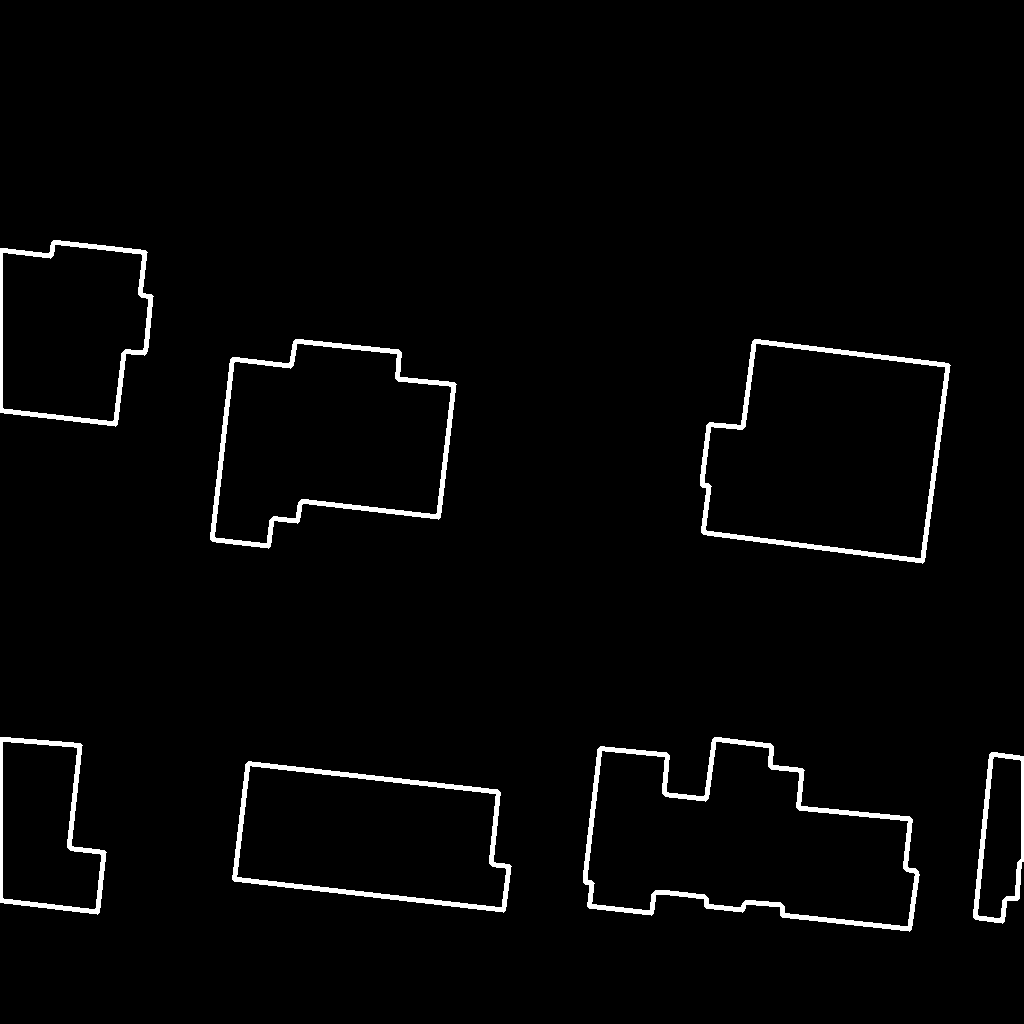building: (585, 739, 918, 930), (702, 341, 949, 562), (212, 341, 455, 547), (234, 763, 510, 911), (0, 242, 152, 425), (0, 739, 105, 913), (975, 754, 1024, 922)
